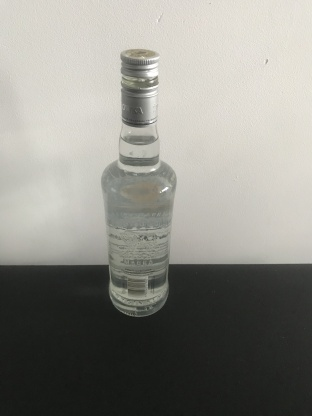nakretka: (119, 47, 161, 127)
